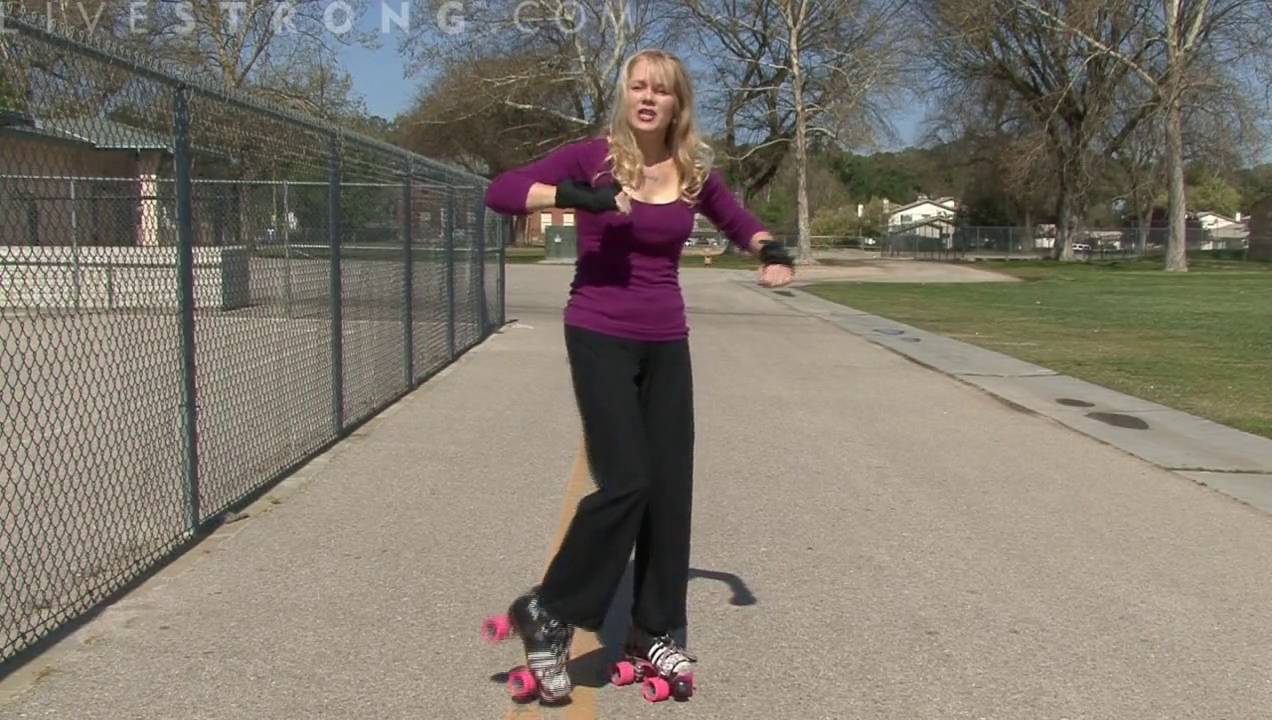person: (485, 48, 794, 697)
